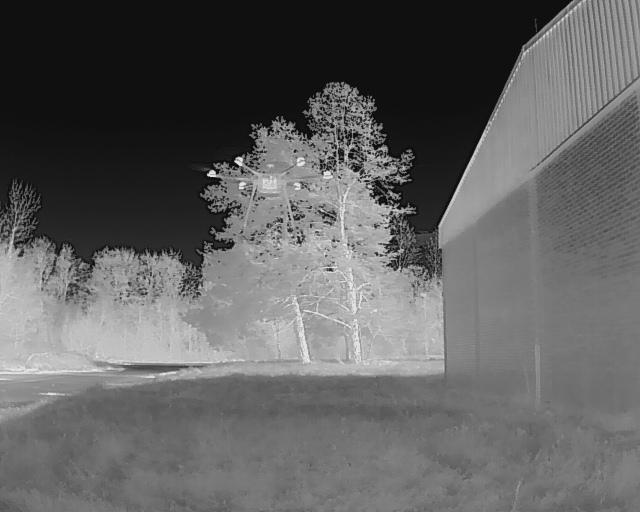drone: (186, 139, 348, 252)
